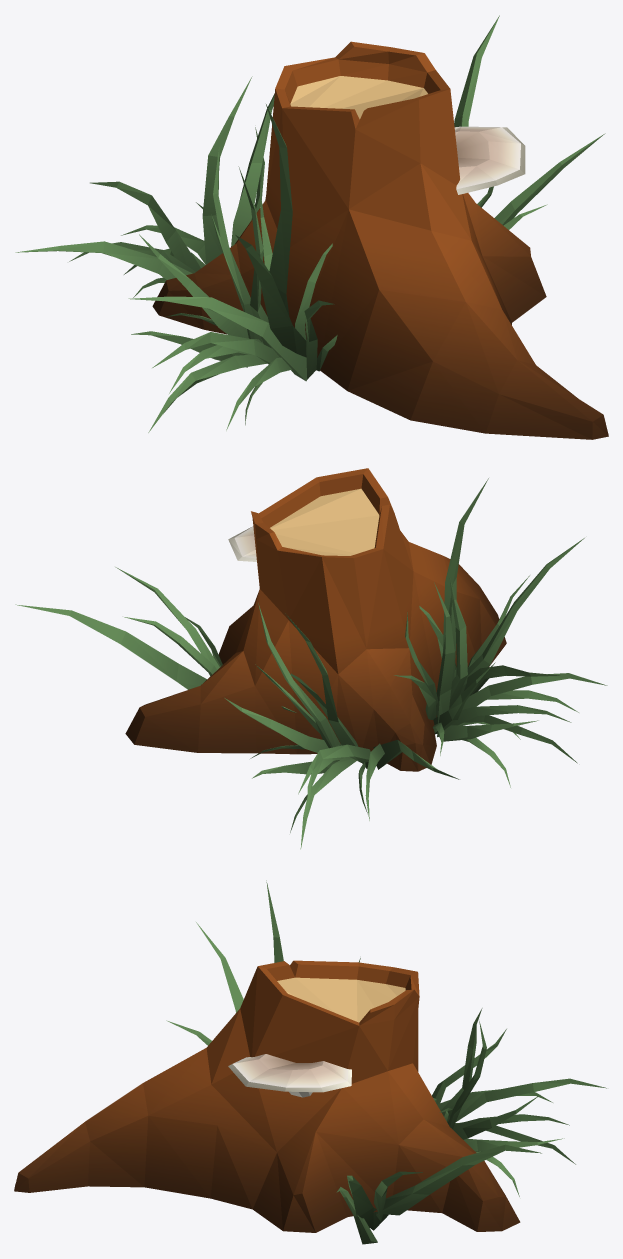
Rendered from TreeStump_A-02.FBX.
3 renders of one model, top to bottom at view 1: azimuth 30°, elevation 25°; view 2: azimuth 150°, elevation 25°; view 3: azimuth 270°, elevation 25°, orthographic. The views are drawn at different scales.
Parts seen in each view (by area): view 1: TreeStump_A-02; view 2: TreeStump_A-02; view 3: TreeStump_A-02.
Boxes of the visible parts, bbox=[...] form: TreeStump_A-02: bbox=[15, 15, 608, 439]; TreeStump_A-02: bbox=[15, 468, 607, 849]; TreeStump_A-02: bbox=[14, 880, 606, 1244].
Bounding box in the file's own units: 217 × 132 × 251.
1 material, 1 textured.
